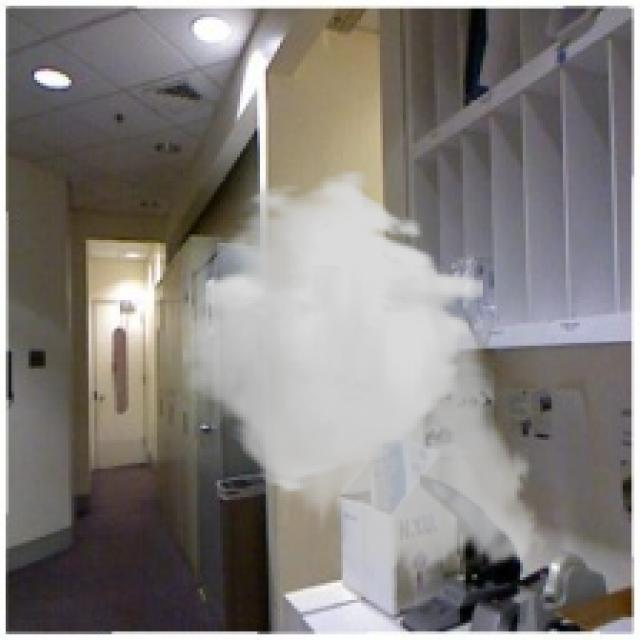smoke: (183, 168, 554, 592)
